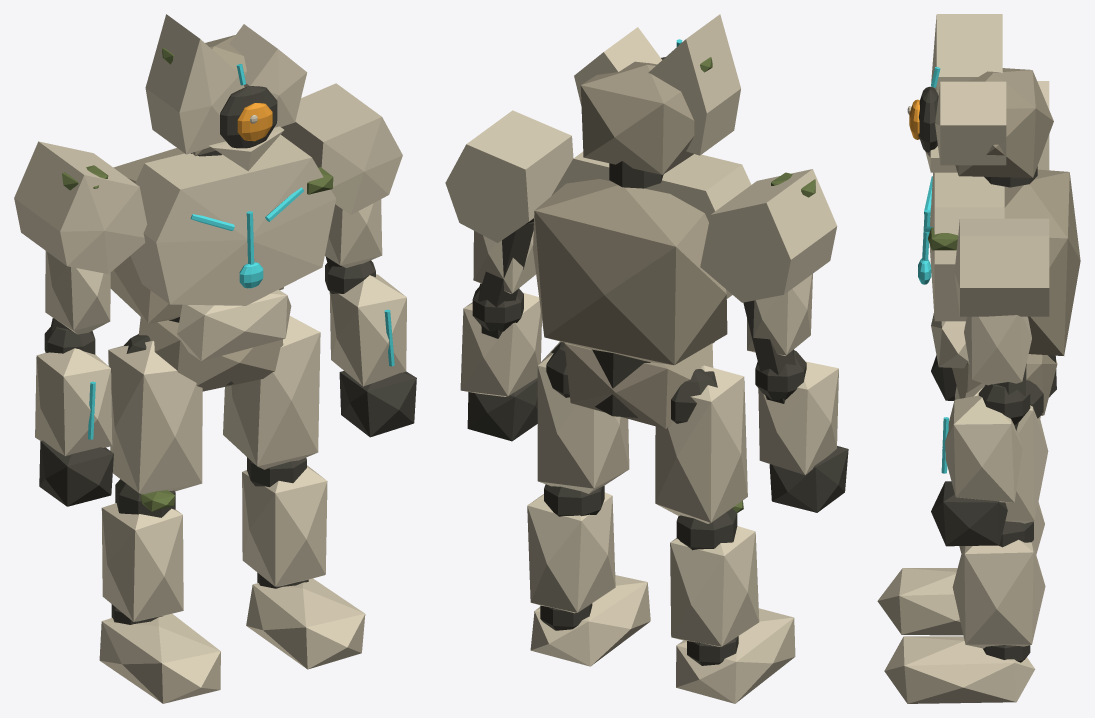
File: StoneScout_Blockout.obj
3 views of the same model, side by side, from view 1: azimuth 30°, elevation 25°; view 2: azimuth 150°, elevation 25°; view 3: azimuth 270°, elevation 25° (orthographic). The views are drawn at different scales.
Parts seen in each view (by area): view 1: StoneScout; view 2: StoneScout; view 3: StoneScout.
Part boxes in pixels (<box>): StoneScout: <box>14,14,416,703</box>; StoneScout: <box>445,14,848,703</box>; StoneScout: <box>877,14,1080,703</box>.
Bounding box in the file's own units: 1.05 × 1.79 × 0.5235.
Materials: 1 (1 with a texture image).
